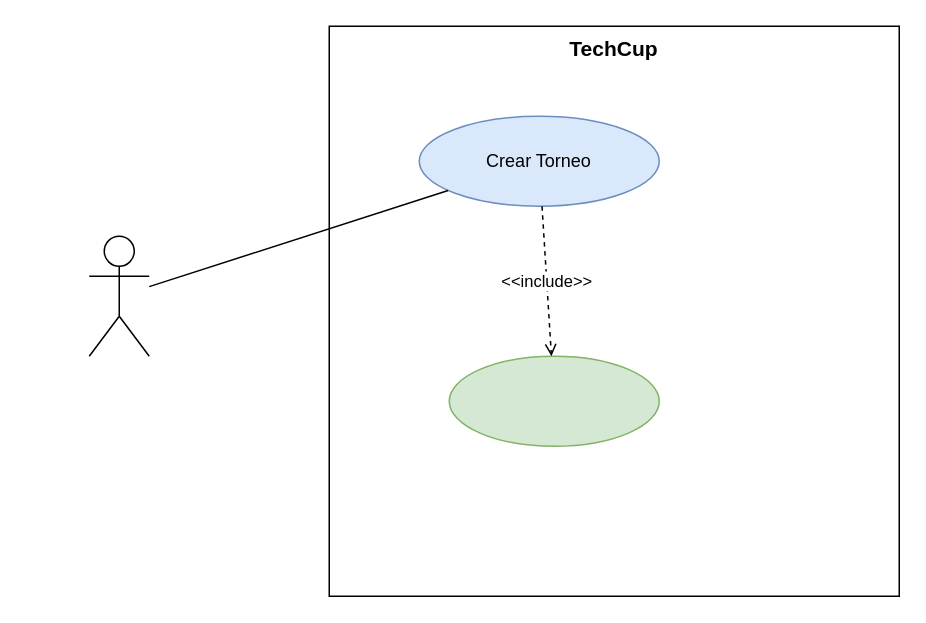
Image size: 926x623. Some labels were removed from this diagram. Each missing label, with the centre of its shape:
Autenticarse: (553,400)
Organizador del Torneo: (118,295)
